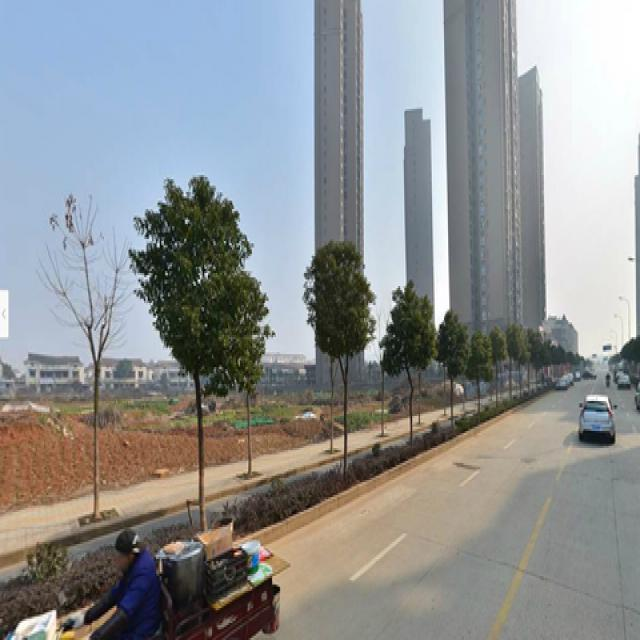cinn: (151, 177, 229, 512), (297, 243, 368, 463), (386, 286, 430, 450), (439, 307, 461, 440), (468, 330, 491, 408)
